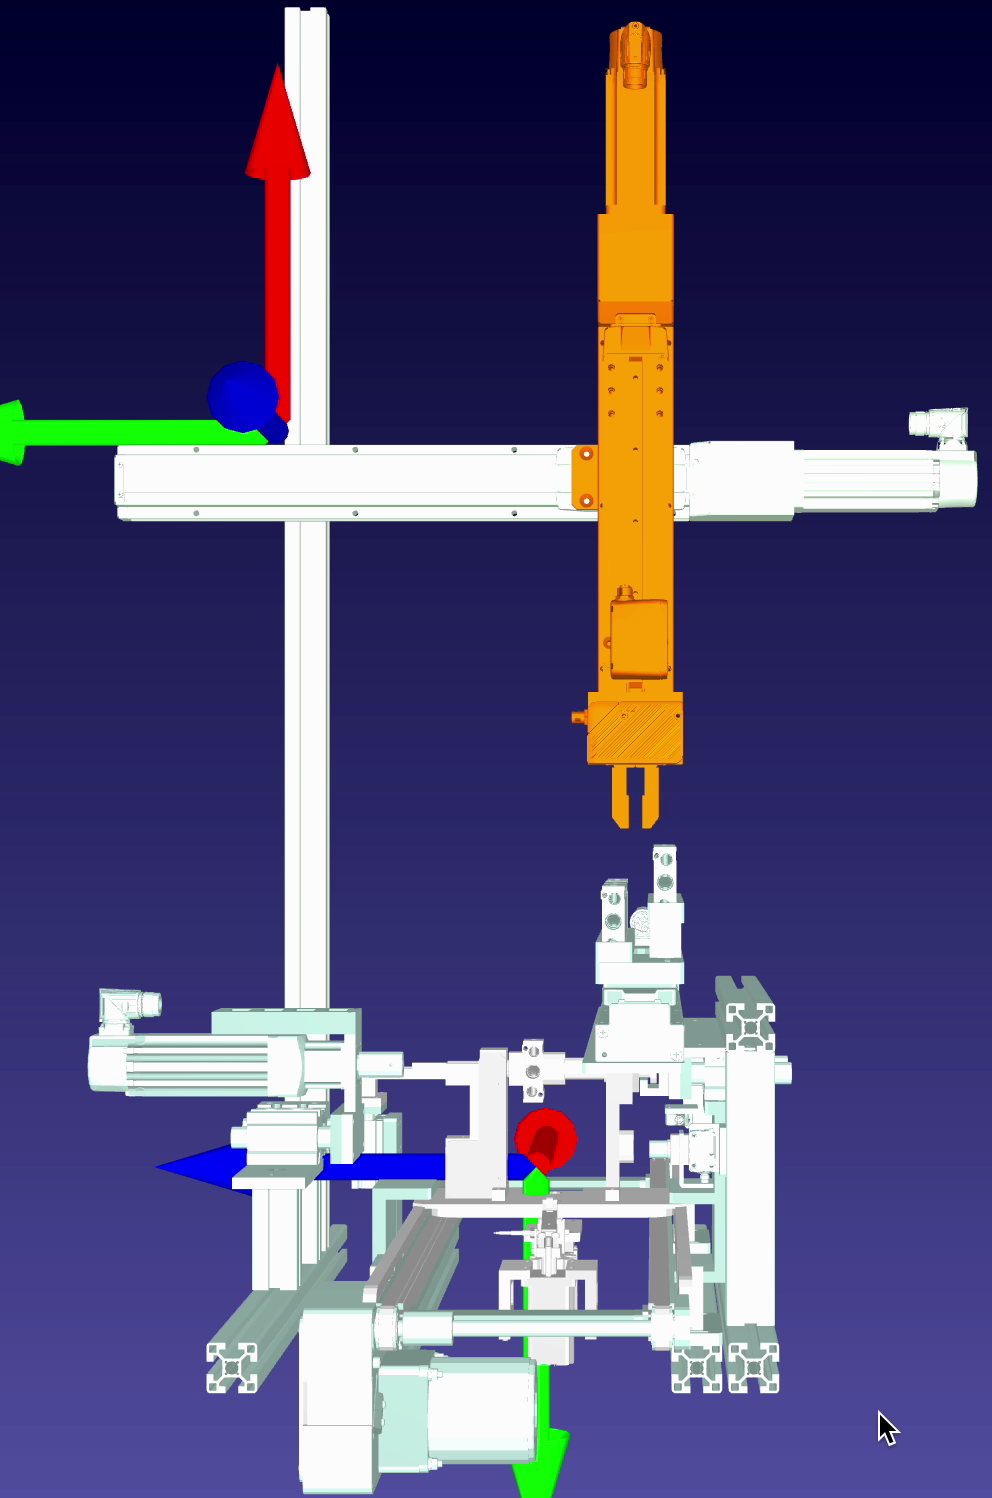Gripper: (573, 678, 692, 834)
